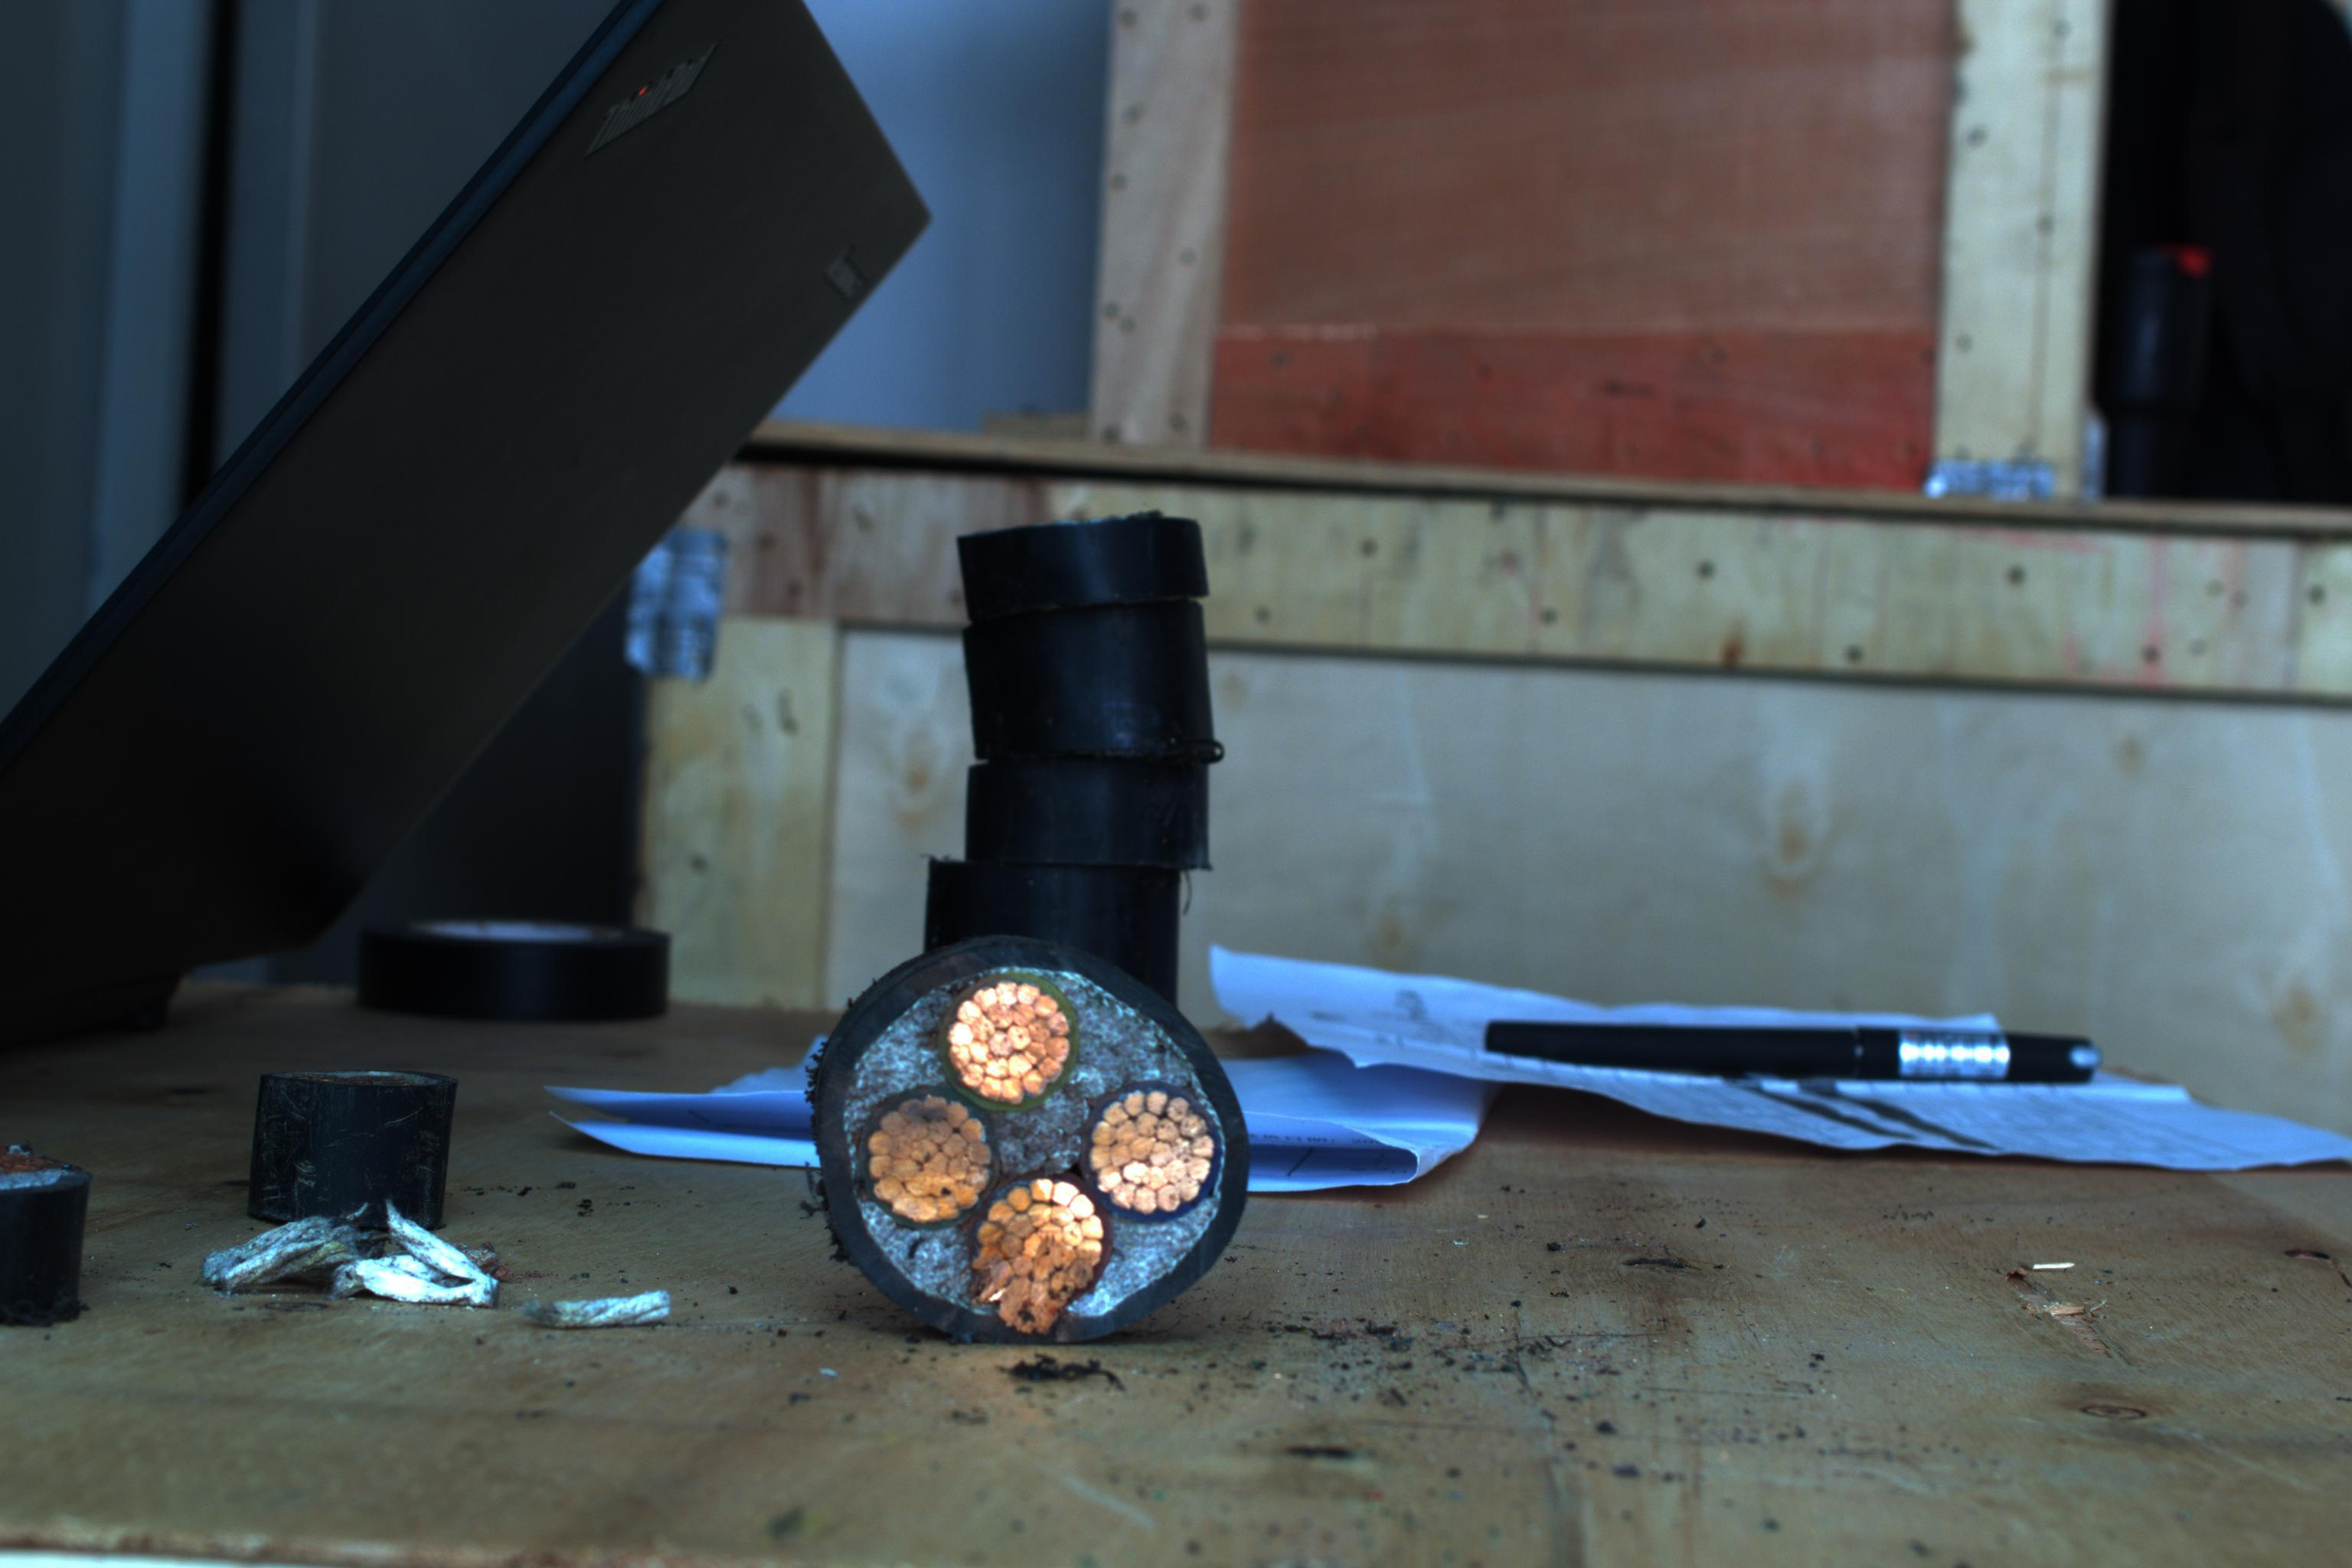YJV_0.6_1kV_4x120: (821, 931, 1253, 1353)
